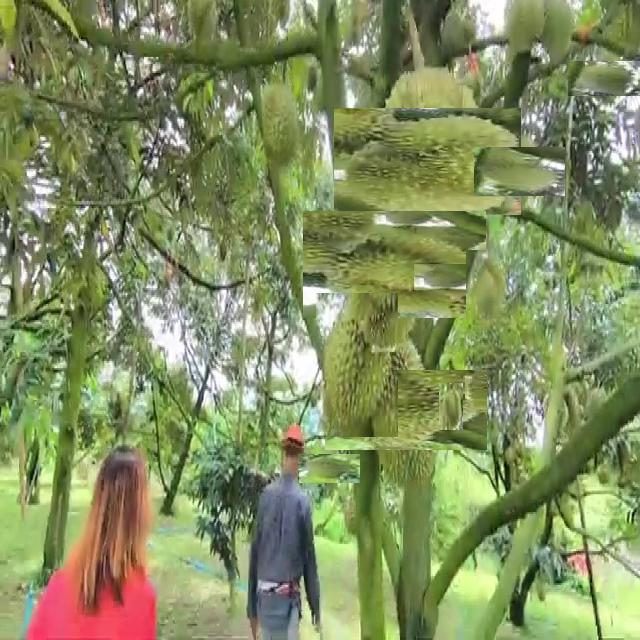durian: (354, 88, 501, 235), (322, 192, 468, 337), (345, 350, 467, 471), (316, 293, 398, 437), (484, 136, 555, 207), (254, 78, 304, 178), (466, 250, 508, 326), (578, 50, 634, 106), (500, 0, 546, 60), (538, 4, 577, 72), (306, 446, 352, 492), (423, 255, 468, 299), (186, 1, 224, 49), (439, 383, 463, 430)
